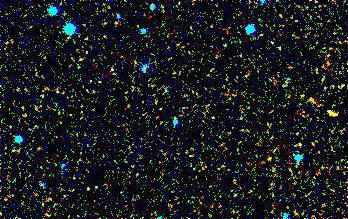star: (315, 98, 345, 128)
